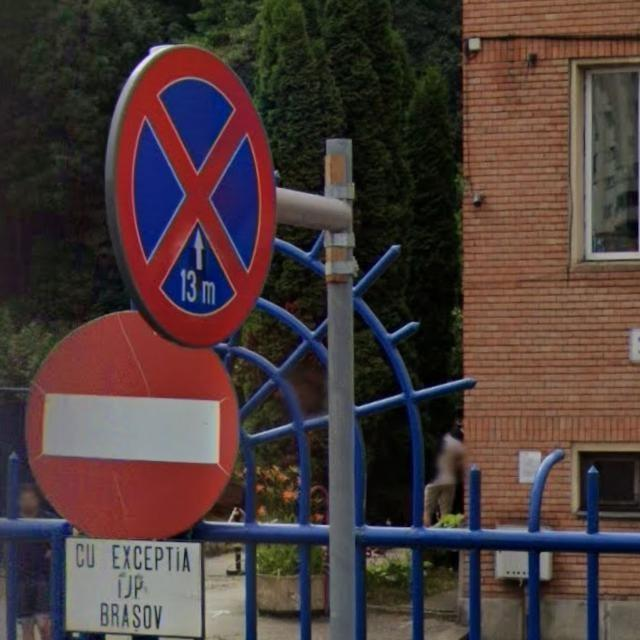forb_waiting: (111, 46, 275, 347)
